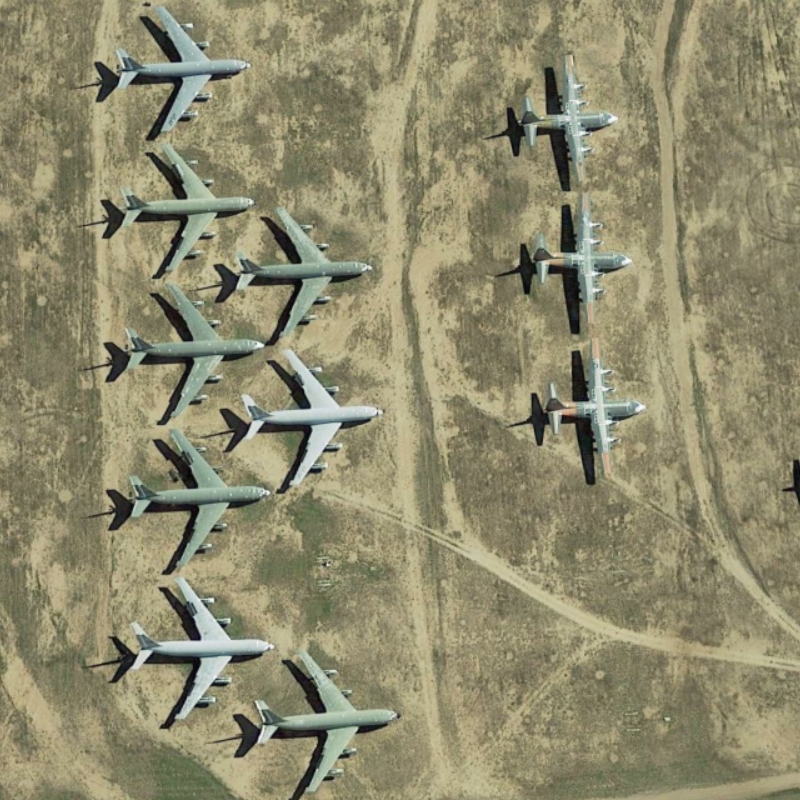A14: (111, 576, 278, 728), (237, 343, 389, 503), (118, 419, 274, 574), (252, 643, 407, 799), (92, 1, 261, 143), (115, 279, 262, 425), (117, 140, 256, 278), (236, 206, 370, 346)
A2: (529, 339, 655, 490), (507, 46, 624, 195), (523, 194, 636, 334)
